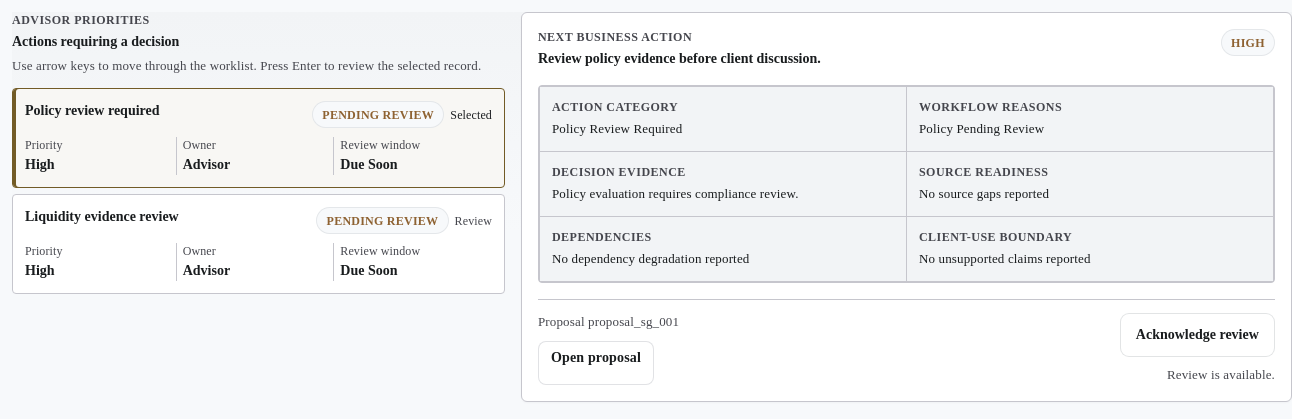
Test: AdvisorCockpitActionWorklist › states each priority once and progressively reveals the selected decision
Expected: the text "Policy review required" is shown once, [25,101,160,121]
Expected: the text "Liquidity evidence review" is shown once, [25,207,179,227]
Step 1. Click the option "Liquidity evidence review" → (258, 244), box [12,194,505,294]
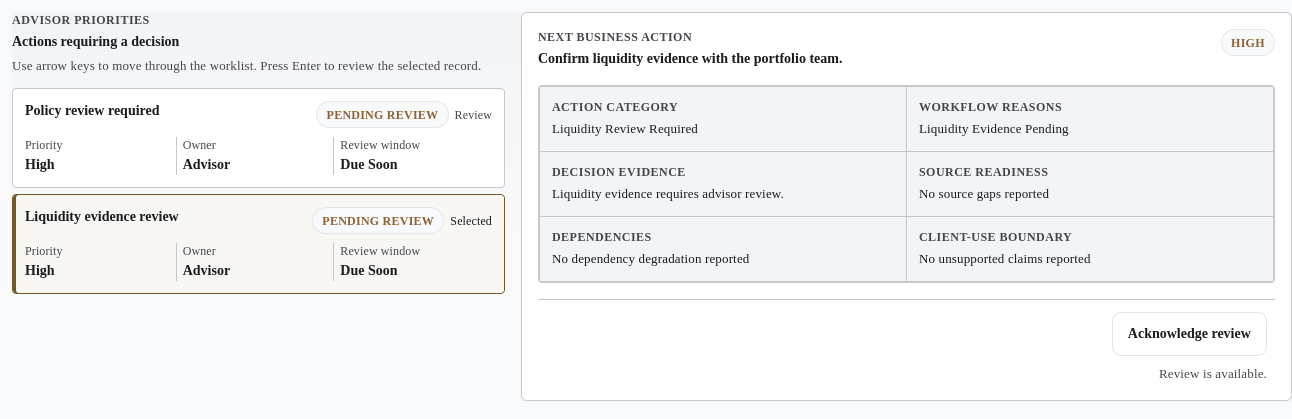
Now the element named "Selected advisor action" shows "Confirm liquidity evidence with the portfolio team.", box [538,51,842,66]
Now the element named "Selected advisor action" shows "Liquidity evidence requires advisor review.", box [552,186,784,201]
Now the link "Open proposal" is gone
